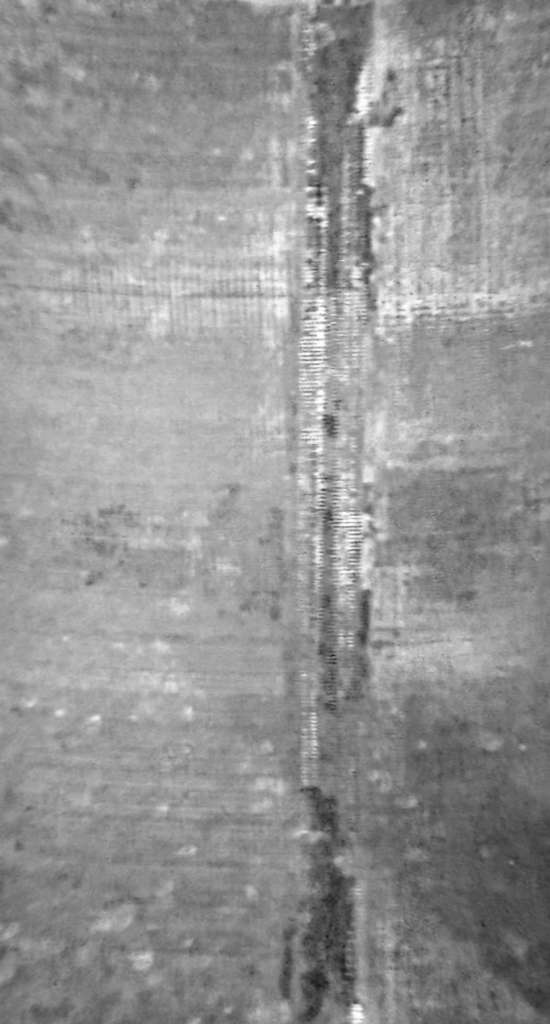splice: (289, 4, 386, 1024)
